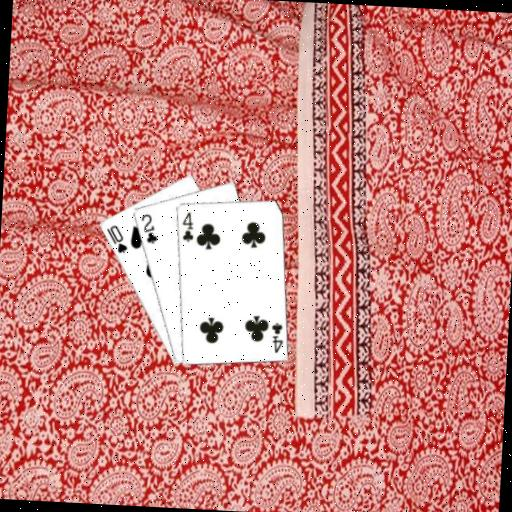10S: (102, 221, 129, 255)
2C: (137, 210, 161, 245)
4C: (267, 319, 286, 355), (178, 209, 196, 244)
